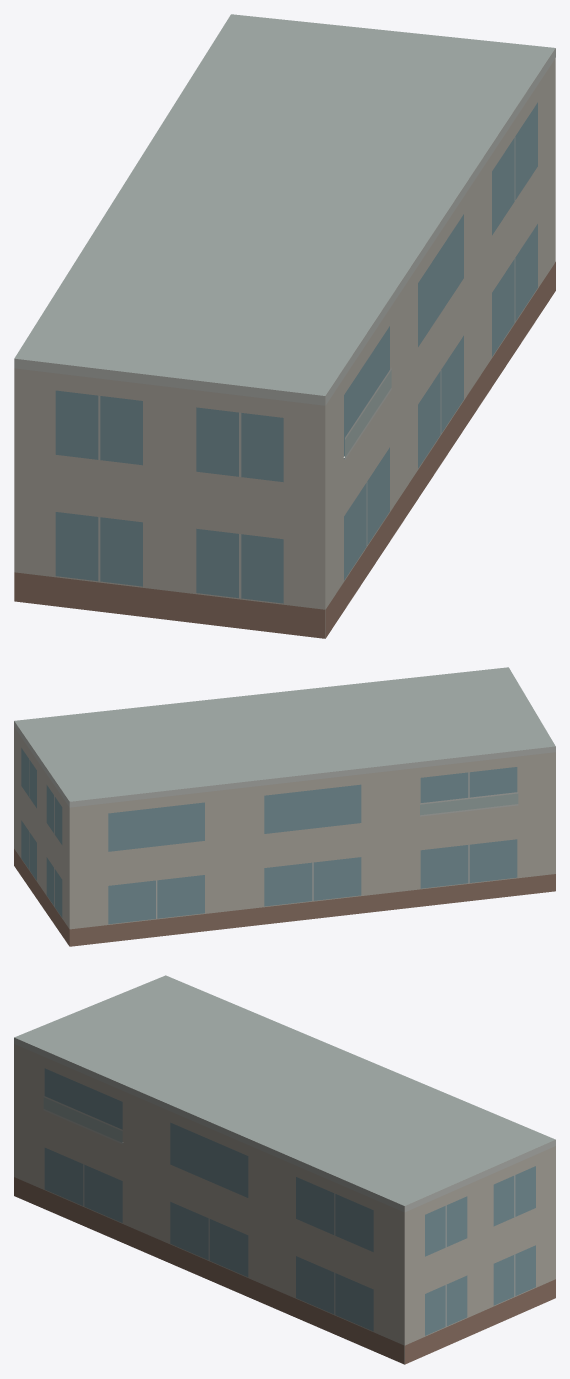
File: survey-upis-32830409.glb
The picture shows the model from 3 angles, top to bottom: view 1: azimuth 30°, elevation 25°; view 2: azimuth 150°, elevation 25°; view 3: azimuth 270°, elevation 25°; orthographic projection. The views are drawn at different scales.
Parts seen in each view (by area): view 1: survey-upis-32830409.tmp; view 2: survey-upis-32830409.tmp; view 3: survey-upis-32830409.tmp.
Part boxes in pixels (<box>): survey-upis-32830409.tmp: <box>14,14,555,638</box>; survey-upis-32830409.tmp: <box>14,667,555,946</box>; survey-upis-32830409.tmp: <box>14,975,555,1364</box>.
Bounding box in the file's own units: 19.07 × 6.1 × 18.91.
